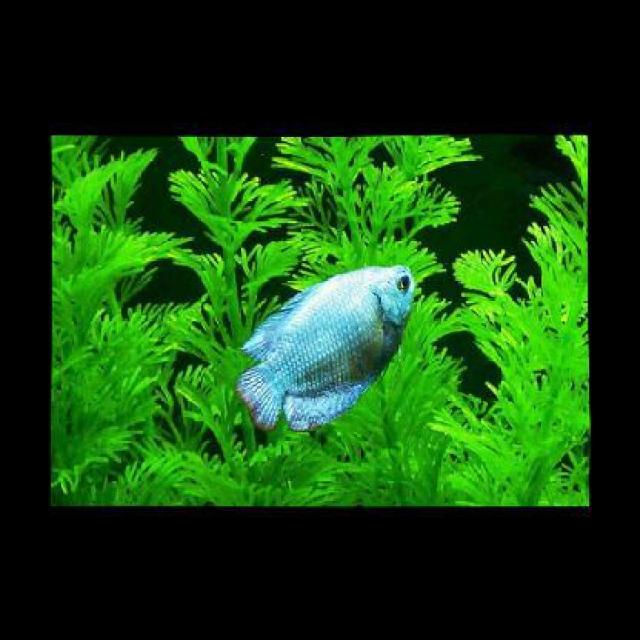Gourami: (232, 264, 414, 428)
